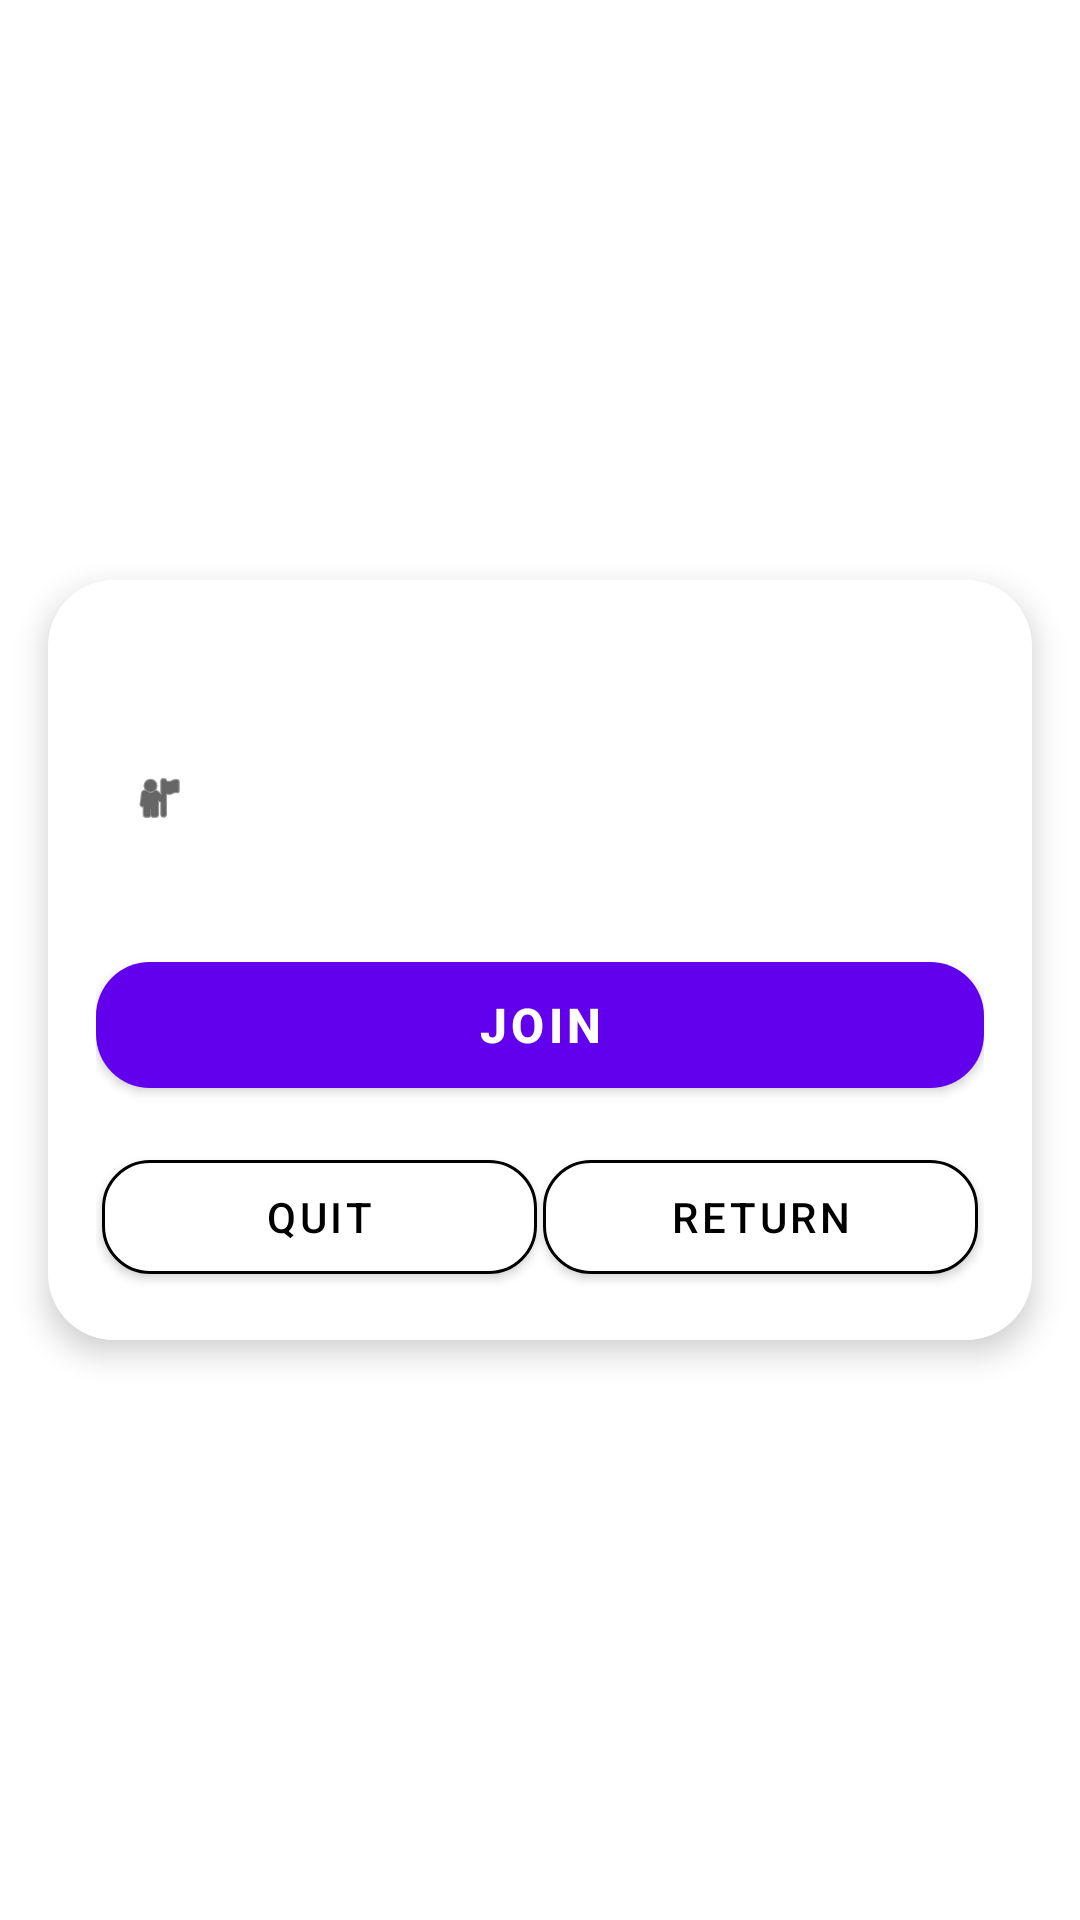

Point at icon controls on the screen. Image size 1080px x 1920px, points as (x,y).
players: (159,798)
